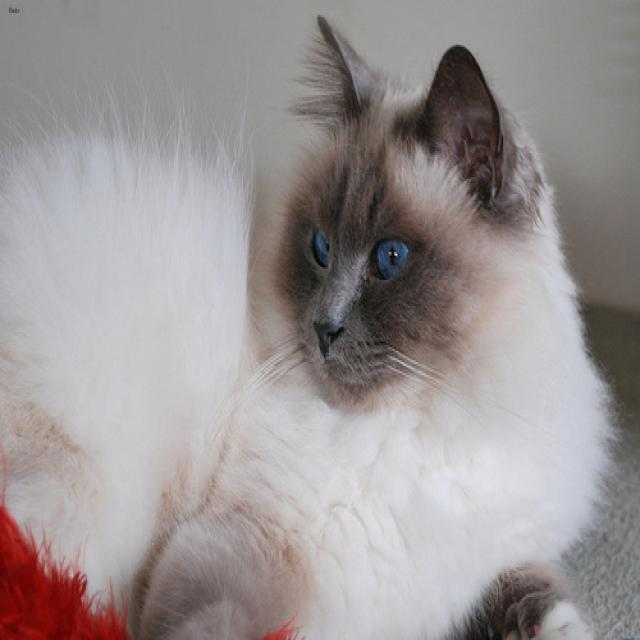Birman: (287, 13, 513, 403)
